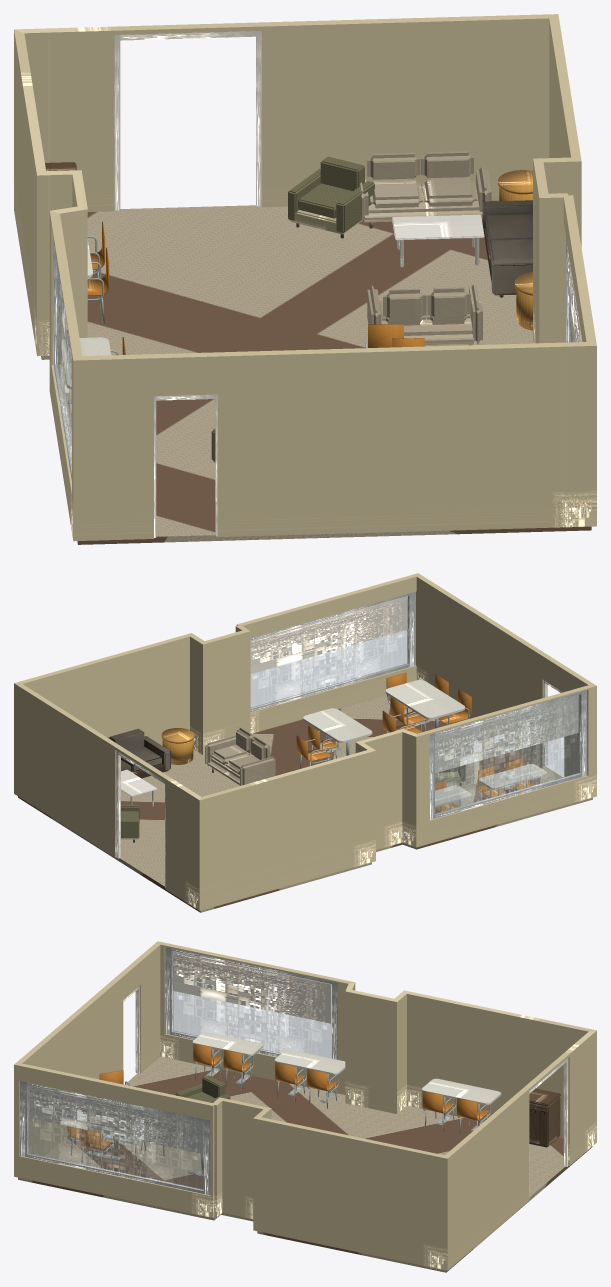
3 renders of one model, top to bottom at view 1: azimuth 30°, elevation 25°; view 2: azimuth 150°, elevation 25°; view 3: azimuth 270°, elevation 25°, orthographic. The views are drawn at different scales.
Visible parts, largest first — view 1: Wall_ab0bd2a5-45fa-4e75-9a85-77051b747a32, Wall_84de4b29-8a07-4a11-b5d2-465c3be6cee9, Floor_ee473709-df73-4e5f-94bc-8366bc0af2b6, Existing_69846218-bdc8-496f-9de8-14219b2e6ab0, Wall_7fd0608a-63fd-45c8-98dd-888270b456c7, Existing_13f45aa3-b069-4017-bce6-3acd37605f96, Existing_51692688-549c-4f42-8647-32bdac8bedbb, Wall_70269c77-1287-40f4-9be1-d48b0aef71e7, Existing_8273ecc9-9b5b-4faf-b8f8-6fff62c6cc29, Wall_a4386857-1e56-4a74-8227-4ee83741c81b, Wall_a480a492-80cd-43c7-8a57-c867d1b1e844, Wall_bf7cf013-2c20-42e7-92f5-fe3ae86aa171 (+14 smaller); view 2: Wall_7fd0608a-63fd-45c8-98dd-888270b456c7, Wall_84de4b29-8a07-4a11-b5d2-465c3be6cee9, Wall_ab0bd2a5-45fa-4e75-9a85-77051b747a32, Floor_ee473709-df73-4e5f-94bc-8366bc0af2b6, Opening_3d0086f6-2644-4a05-b099-28479e226a10_WindowGlass, Wall_bf7cf013-2c20-42e7-92f5-fe3ae86aa171, Wall_70269c77-1287-40f4-9be1-d48b0aef71e7, Wall_3756c89d-f307-4678-97ef-ef9fb00e9bd8, Opening_a21bc8f5-5de0-4e16-84f9-48d1f0f4e487_WindowGlass, Opening_3d0086f6-2644-4a05-b099-28479e226a10_PartialRollerBl, Opening_a21bc8f5-5de0-4e16-84f9-48d1f0f4e487_PartialRollerBl, Wall_786a9eda-eda3-45db-bc54-2da34fc0c425 (+23 smaller); view 3: Wall_bf7cf013-2c20-42e7-92f5-fe3ae86aa171, Floor_ee473709-df73-4e5f-94bc-8366bc0af2b6, Wall_7fd0608a-63fd-45c8-98dd-888270b456c7, Wall_84de4b29-8a07-4a11-b5d2-465c3be6cee9, Opening_a21bc8f5-5de0-4e16-84f9-48d1f0f4e487_WindowGlass, Wall_ab0bd2a5-45fa-4e75-9a85-77051b747a32, Wall_3756c89d-f307-4678-97ef-ef9fb00e9bd8, Wall_d5d3d892-130d-487e-9728-2a79863c94ab, Opening_3d0086f6-2644-4a05-b099-28479e226a10_WindowGlass, Opening_3d0086f6-2644-4a05-b099-28479e226a10_PartialRollerBl, Opening_a21bc8f5-5de0-4e16-84f9-48d1f0f4e487_PartialRollerBl, Wall_70269c77-1287-40f4-9be1-d48b0aef71e7 (+24 smaller).
Boxes of the visible parts, <box> form: Wall_ab0bd2a5-45fa-4e75-9a85-77051b747a32: <box>73,342,596,541</box>; Wall_84de4b29-8a07-4a11-b5d2-465c3be6cee9: <box>14,14,557,211</box>; Floor_ee473709-df73-4e5f-94bc-8366bc0af2b6: <box>41,200,591,544</box>; Existing_69846218-bdc8-496f-9de8-14219b2e6ab0: <box>355,151,491,228</box>; Wall_7fd0608a-63fd-45c8-98dd-888270b456c7: <box>14,29,45,354</box>; Existing_13f45aa3-b069-4017-bce6-3acd37605f96: <box>367,282,482,346</box>; Existing_51692688-549c-4f42-8647-32bdac8bedbb: <box>288,156,374,238</box>; Wall_70269c77-1287-40f4-9be1-d48b0aef71e7: <box>49,211,82,539</box>; Existing_8273ecc9-9b5b-4faf-b8f8-6fff62c6cc29: <box>482,200,532,297</box>; Wall_a4386857-1e56-4a74-8227-4ee83741c81b: <box>539,193,568,343</box>; Wall_a480a492-80cd-43c7-8a57-c867d1b1e844: <box>37,170,81,356</box>; Wall_bf7cf013-2c20-42e7-92f5-fe3ae86aa171: <box>549,14,581,161</box>; Wall_7fd0608a-63fd-45c8-98dd-888270b456c7: <box>199,750,375,910</box>; Wall_84de4b29-8a07-4a11-b5d2-465c3be6cee9: <box>14,683,201,910</box>; Wall_ab0bd2a5-45fa-4e75-9a85-77051b747a32: <box>416,573,596,776</box>; Floor_ee473709-df73-4e5f-94bc-8366bc0af2b6: <box>18,695,592,912</box>; Opening_3d0086f6-2644-4a05-b099-28479e226a10_WindowGlass: <box>435,695,579,813</box>; Wall_bf7cf013-2c20-42e7-92f5-fe3ae86aa171: <box>14,633,191,745</box>; Wall_70269c77-1287-40f4-9be1-d48b0aef71e7: <box>416,685,596,847</box>; Wall_3756c89d-f307-4678-97ef-ef9fb00e9bd8: <box>236,573,417,733</box>; Opening_a21bc8f5-5de0-4e16-84f9-48d1f0f4e487_WindowGlass: <box>251,629,407,707</box>; Opening_3d0086f6-2644-4a05-b099-28479e226a10_PartialRollerBl: <box>435,697,578,773</box>; Opening_a21bc8f5-5de0-4e16-84f9-48d1f0f4e487_PartialRollerBl: <box>250,599,407,673</box>; Wall_786a9eda-eda3-45db-bc54-2da34fc0c425: <box>203,630,250,754</box>; Wall_bf7cf013-2c20-42e7-92f5-fe3ae86aa171: <box>253,1117,447,1270</box>; Floor_ee473709-df73-4e5f-94bc-8366bc0af2b6: <box>18,1056,592,1272</box>; Wall_7fd0608a-63fd-45c8-98dd-888270b456c7: <box>404,990,596,1138</box>; Wall_84de4b29-8a07-4a11-b5d2-465c3be6cee9: <box>445,1030,596,1270</box>; Opening_a21bc8f5-5de0-4e16-84f9-48d1f0f4e487_WindowGlass: <box>28,1085,203,1189</box>; Wall_ab0bd2a5-45fa-4e75-9a85-77051b747a32: <box>14,941,160,1156</box>; Wall_3756c89d-f307-4678-97ef-ef9fb00e9bd8: <box>14,1063,214,1217</box>; Wall_d5d3d892-130d-487e-9728-2a79863c94ab: <box>345,990,396,1113</box>; Opening_3d0086f6-2644-4a05-b099-28479e226a10_WindowGlass: <box>173,984,331,1058</box>; Opening_3d0086f6-2644-4a05-b099-28479e226a10_PartialRollerBl: <box>173,955,330,1023</box>; Opening_a21bc8f5-5de0-4e16-84f9-48d1f0f4e487_PartialRollerBl: <box>30,1087,203,1153</box>; Wall_70269c77-1287-40f4-9be1-d48b0aef71e7: <box>158,941,354,1094</box>.
Bounding box in the file's own units: 10.15 × 2.52 × 11.5.
90 materials, 5 textured.
